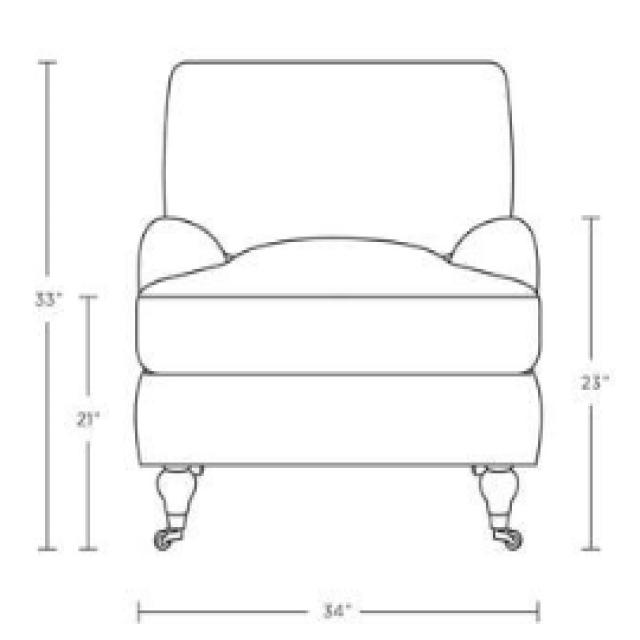Armrest: (126, 201, 249, 305), (436, 208, 548, 310)
Backrest: (159, 59, 517, 267)
Leg_Structure: (150, 458, 531, 557)
Seat: (130, 235, 546, 468)
